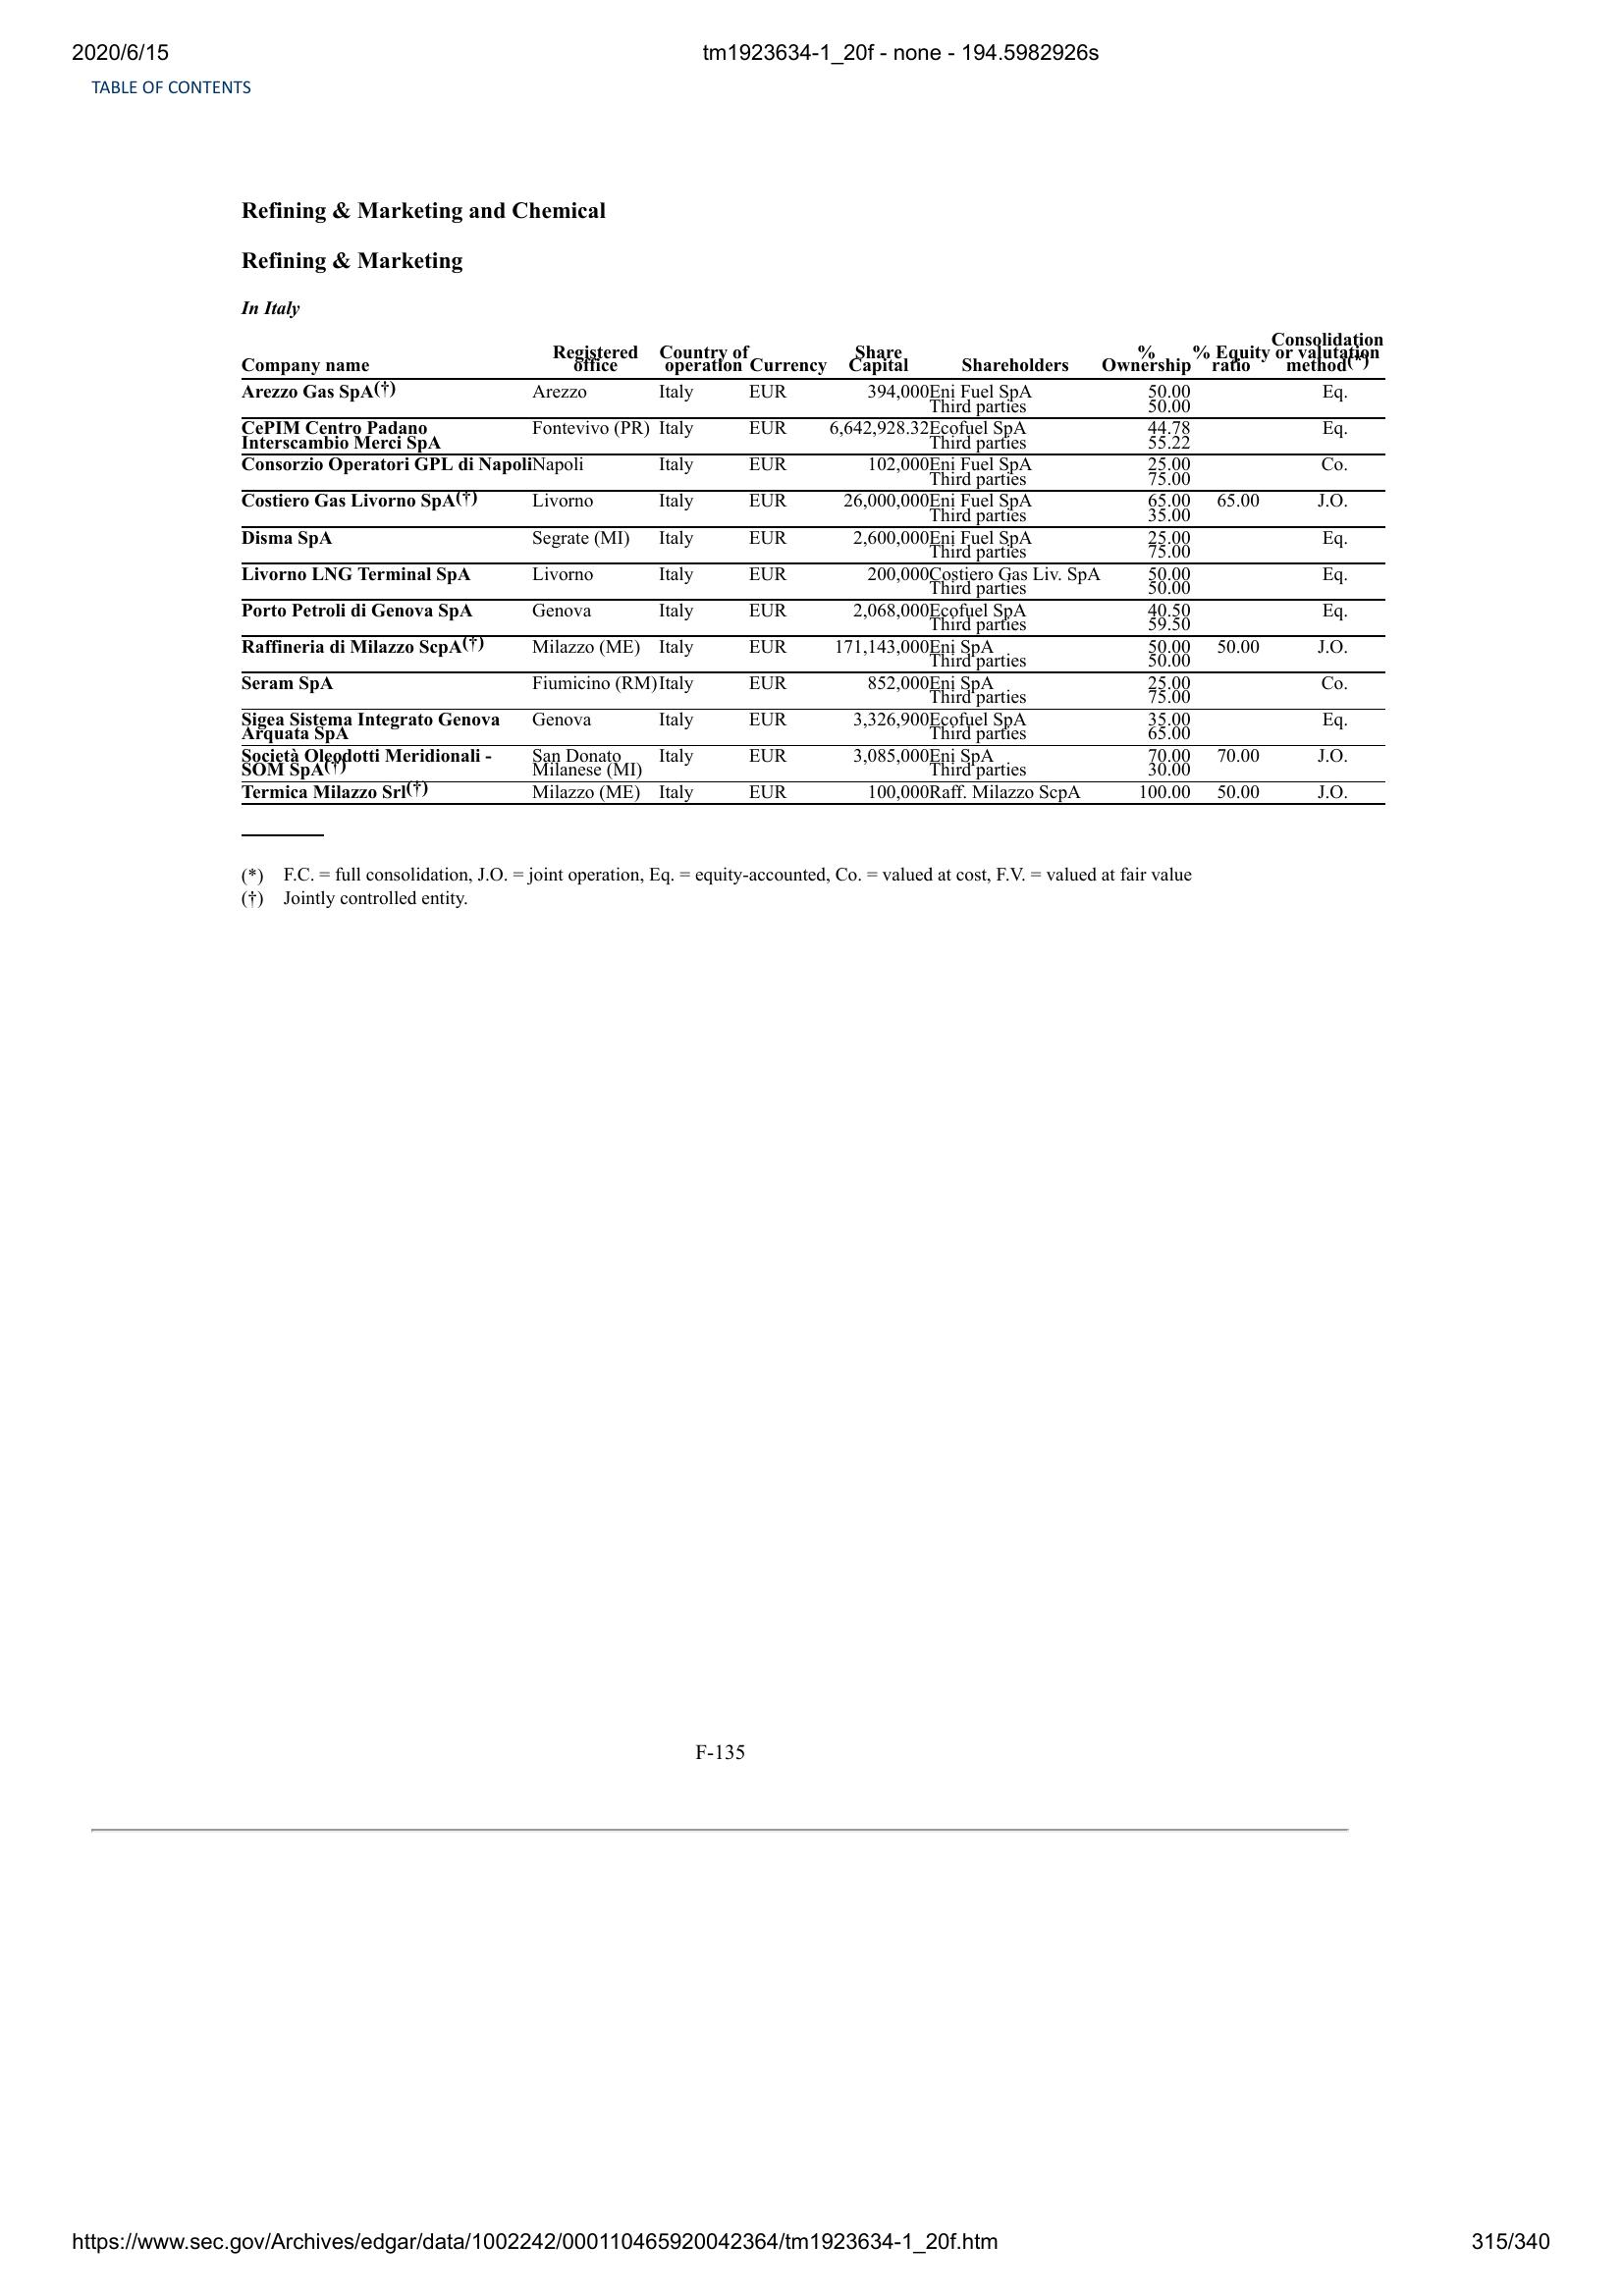table: (234, 326, 1395, 814)
